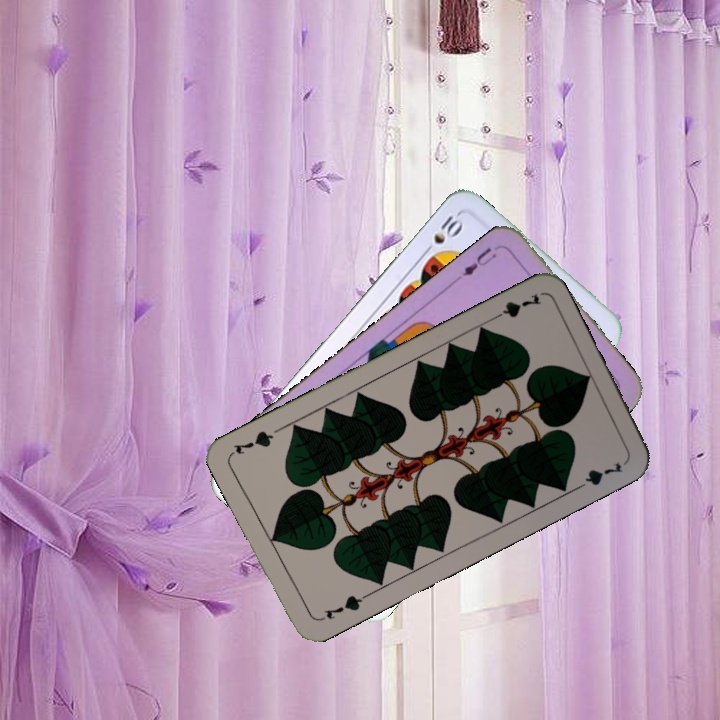EU: (458, 241, 503, 279)
G7: (487, 290, 544, 324), (315, 590, 370, 624)
S10: (418, 210, 466, 258)
